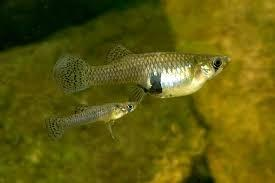Mosquito Fish: (48, 44, 234, 106), (42, 98, 142, 141)
